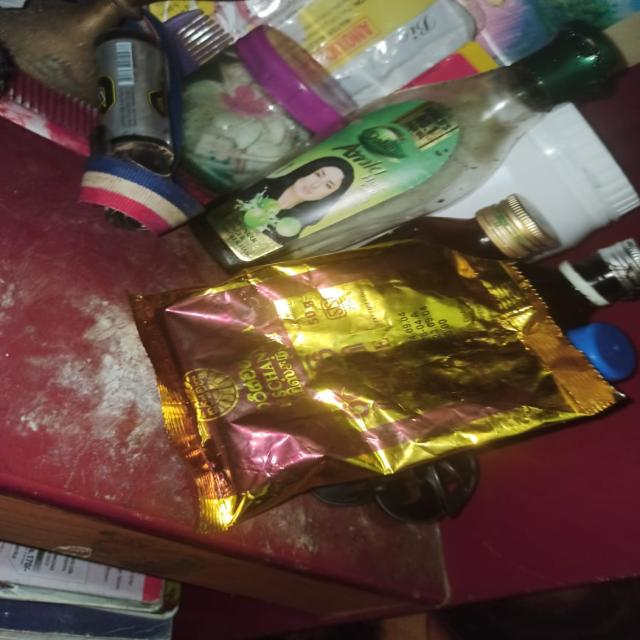Harischandra Coffee: (160, 268, 614, 505)
